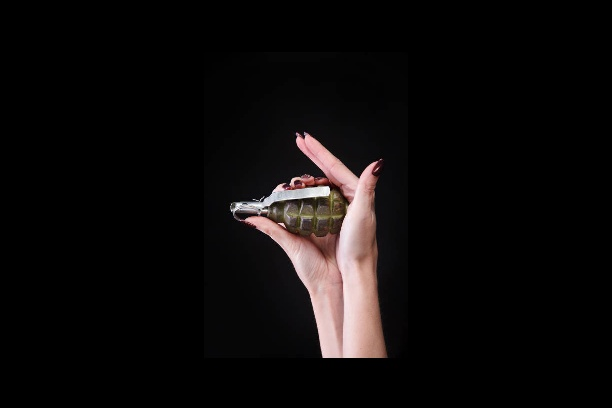e1: (226, 180, 347, 245)
